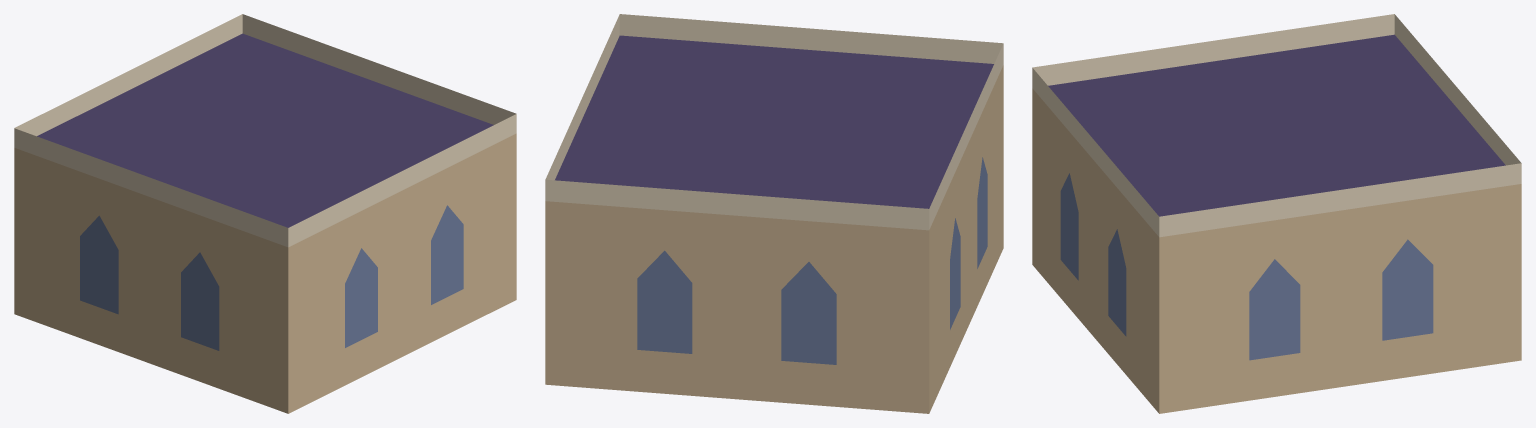
Rendered from b-063-day.glb.
3 renders of one model, left to right at view 1: azimuth 30°, elevation 25°; view 2: azimuth 150°, elevation 25°; view 3: azimuth 270°, elevation 25°, orthographic. The views are drawn at different scales.
Parts seen in each view (by area): view 1: campus/b-063-day-0; view 2: campus/b-063-day-0; view 3: campus/b-063-day-0.
Part boxes in pixels (x1,y1,x2,y2): campus/b-063-day-0: [14, 14, 516, 413]; campus/b-063-day-0: [545, 14, 1003, 413]; campus/b-063-day-0: [1032, 14, 1521, 413].
Size of the model in its own units: 11.57 by 5.25 by 11.8.
